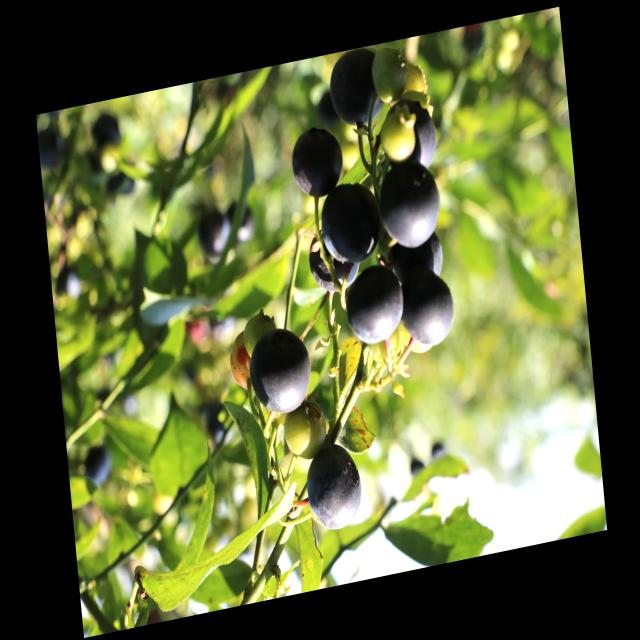blueberry: (376, 152, 446, 252), (247, 323, 316, 420), (343, 264, 412, 356), (314, 182, 383, 272), (301, 439, 367, 531), (397, 267, 459, 356), (284, 121, 348, 203), (326, 46, 384, 132), (393, 92, 443, 180)
blueberry-halfripe: (228, 328, 258, 398)
blueberry-unripe: (281, 397, 330, 463), (368, 41, 412, 106), (375, 100, 419, 164)
